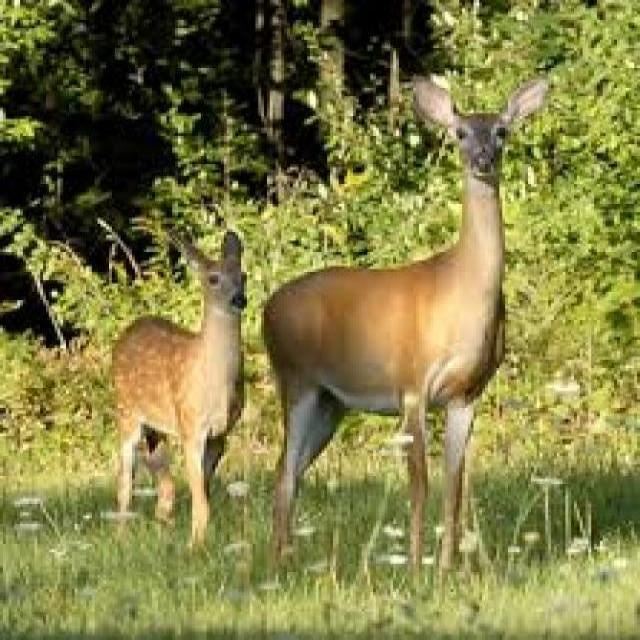deer: (252, 76, 540, 577), (100, 235, 252, 541)
